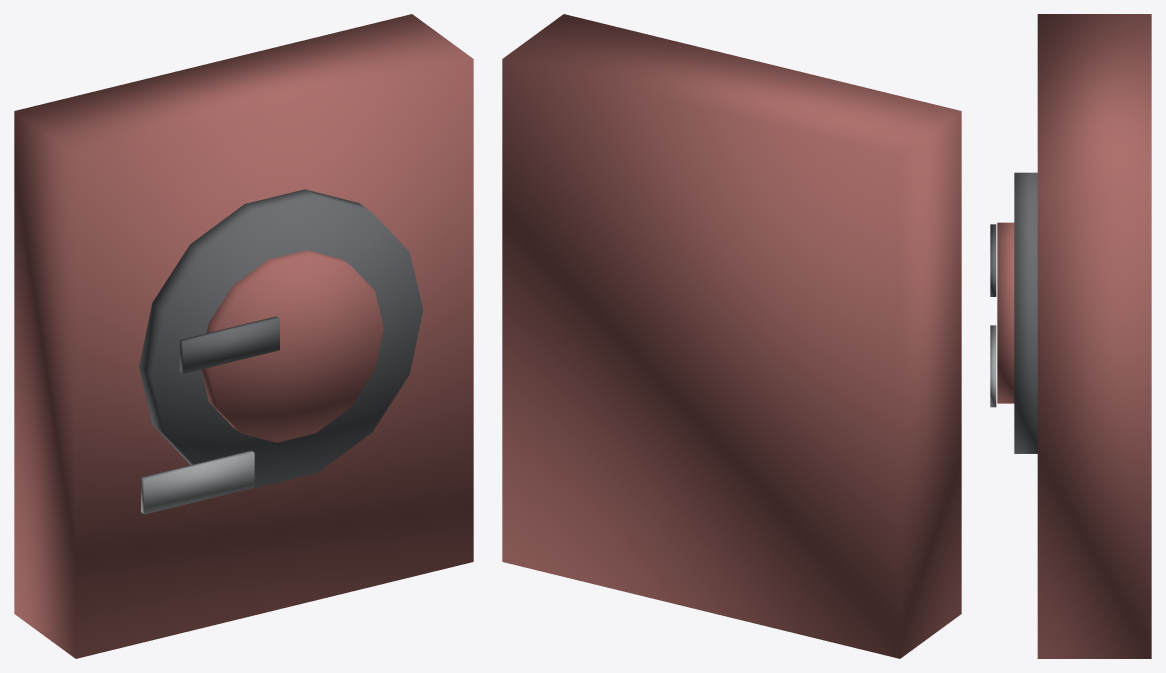
Rendered from fire_hose_rack__weathered.glb.
3 renders of one model, left to right at view 1: azimuth 30°, elevation 25°; view 2: azimuth 150°, elevation 25°; view 3: azimuth 270°, elevation 25°, orthographic. The views are drawn at different scales.
Visible parts, largest first — view 1: world; view 2: world; view 3: world.
Part boxes in pixels (x1=…): world: x1=14, y1=14, x2=473, y2=658; world: x1=502, y1=14, x2=961, y2=658; world: x1=990, y1=14, x2=1151, y2=658.
Bounding box in the file's own units: 0.82 × 0.99 × 0.3115.
